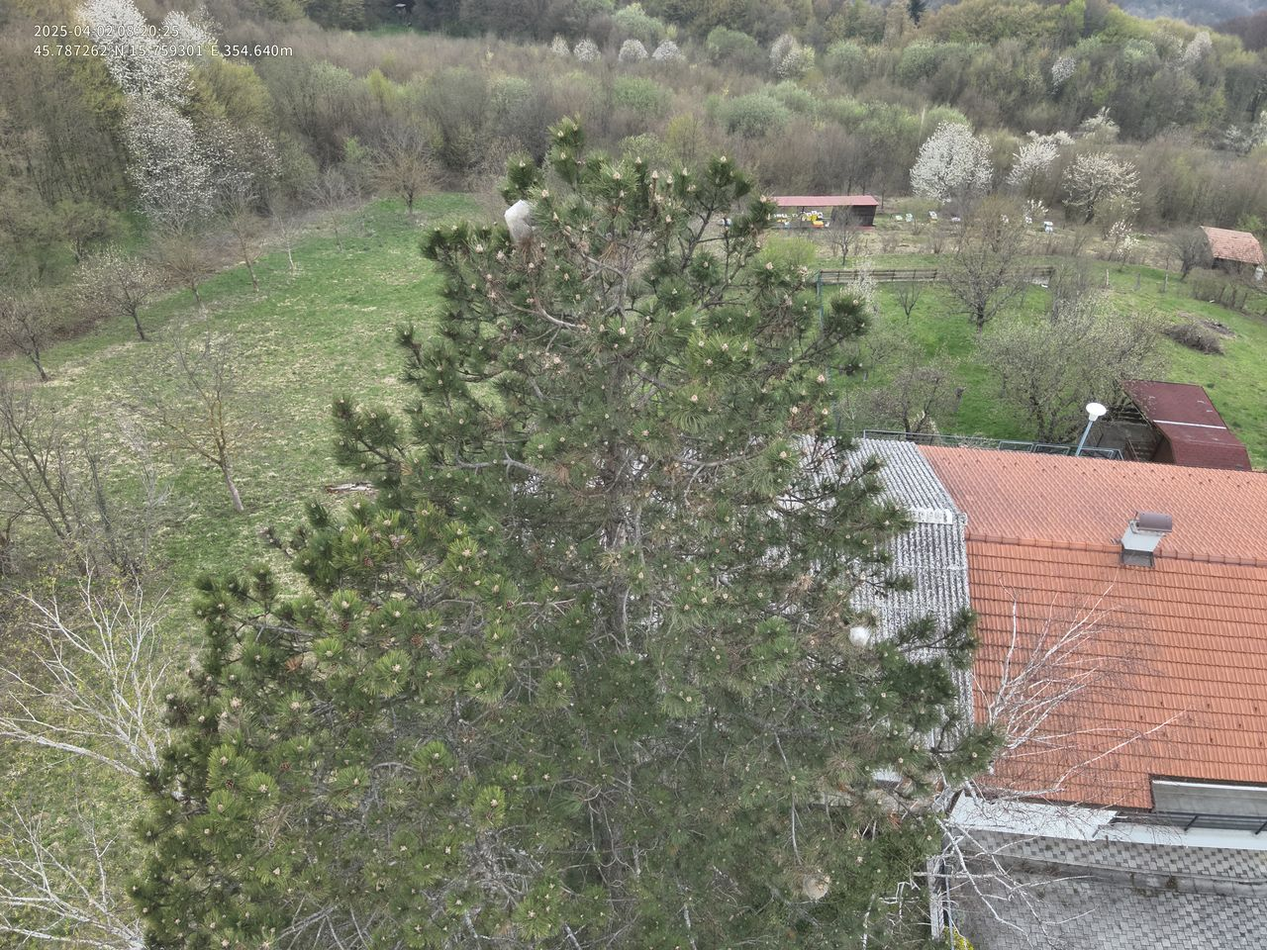thaumatopoea pityocampa jajno gnijezdo: (853, 779, 918, 824), (503, 196, 537, 253), (800, 871, 836, 900), (846, 623, 873, 650)
